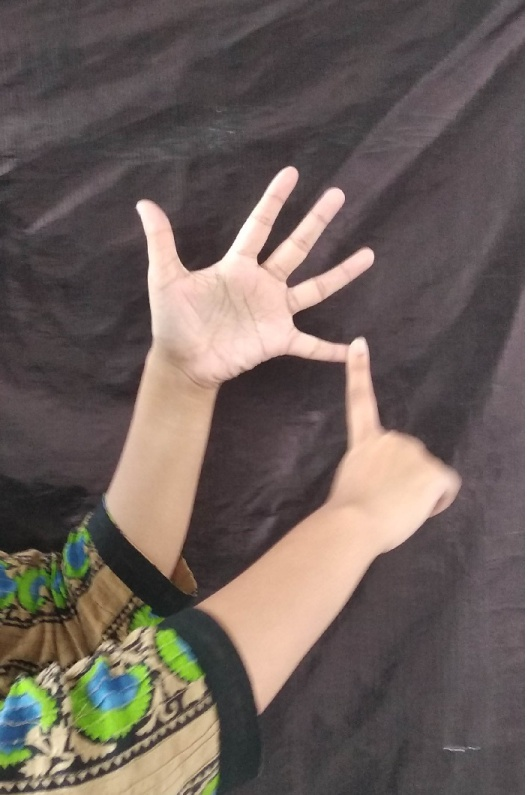i: (132, 152, 416, 438)
